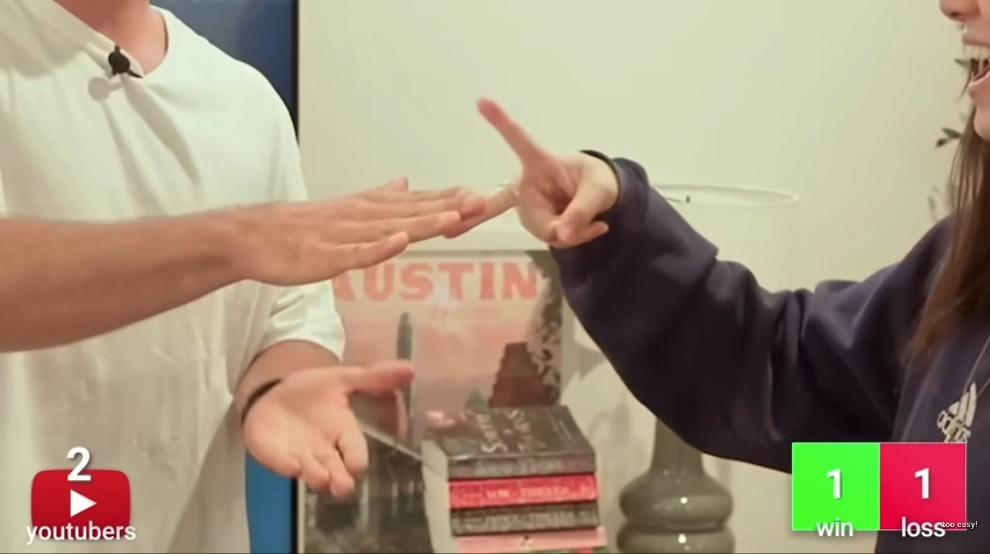Paper: (230, 176, 486, 294)
Scissors: (448, 96, 619, 253)
